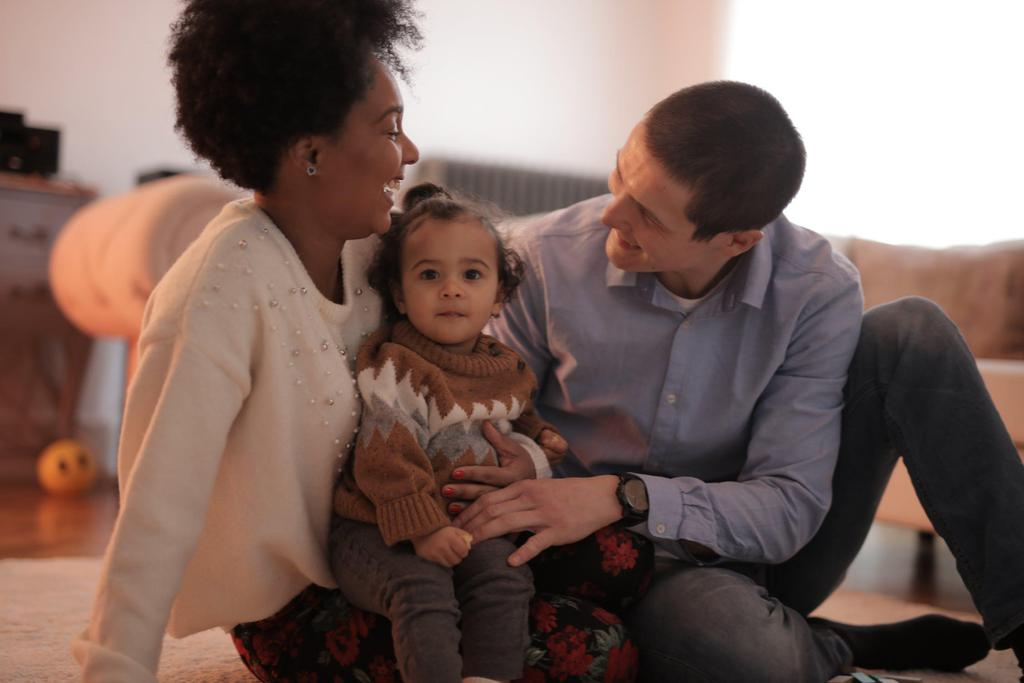child: (341, 185, 559, 683)
